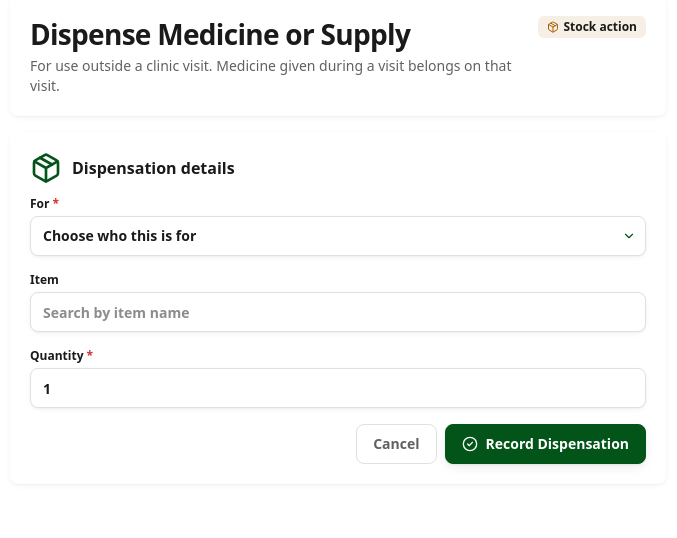
Scenario: Standalone Dispense › records general use with no student
The image size is (677, 538).
Click the button labelled "Choose who this is for": click(120, 236) [30,216,646,256]
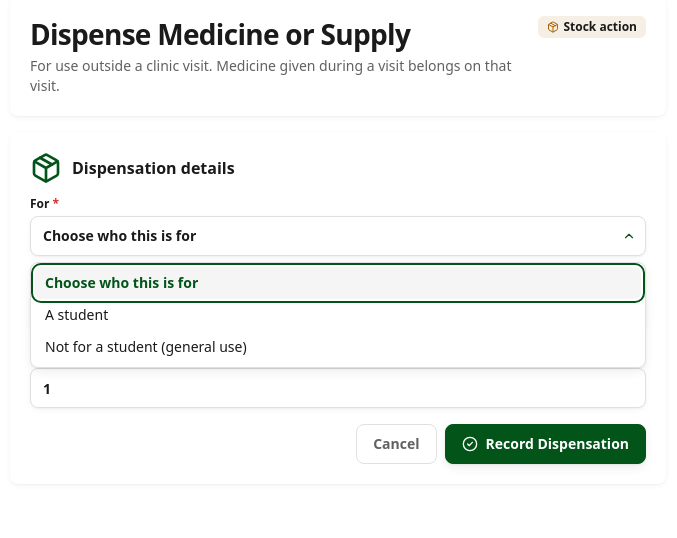
Select "Not for a student (general use)" in the list: (338, 315) [30,262,646,368]
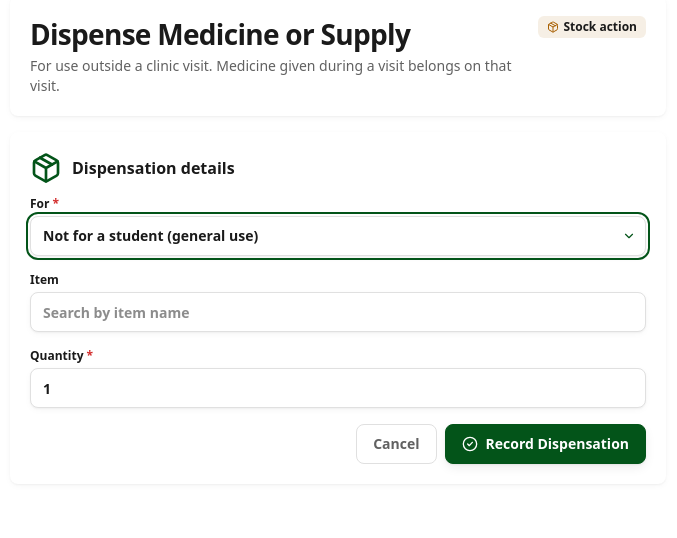
In the dropdown labelled "Item": (338, 312) [30,292,646,332], type "gloves"
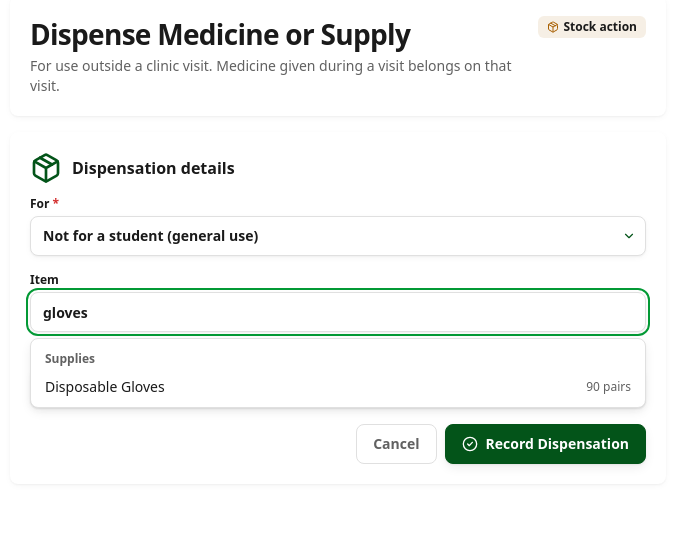
Click the option "Disposable Gloves 90 pairs": click(105, 386) [45,377,631,396]
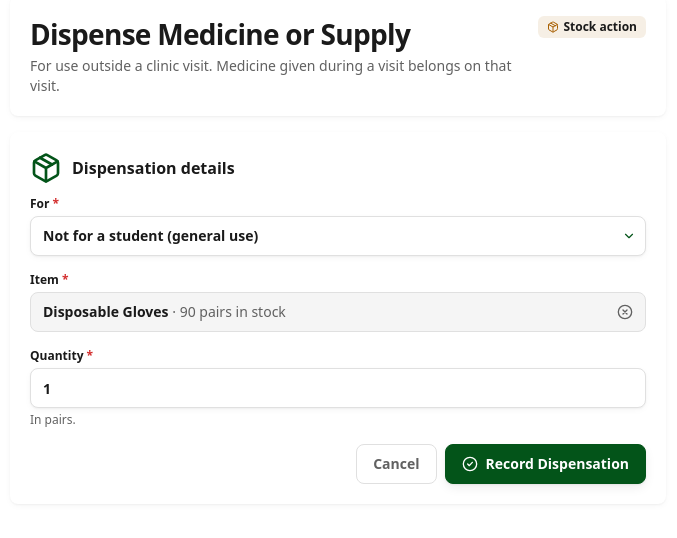
Click the button "Record Dispensation": click(545, 464) [444,444,646,484]
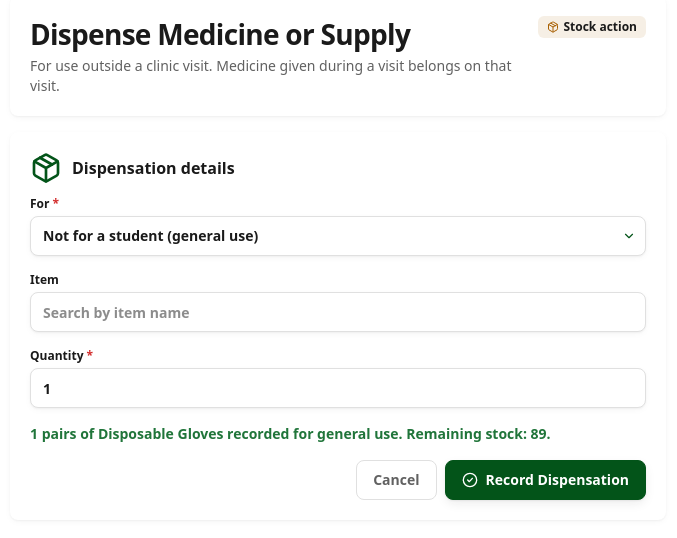
Check: the text "1 pairs of Disposable Gloves recorded for general use. Remaining stock: 89." is shown, box [30,424,551,443]
